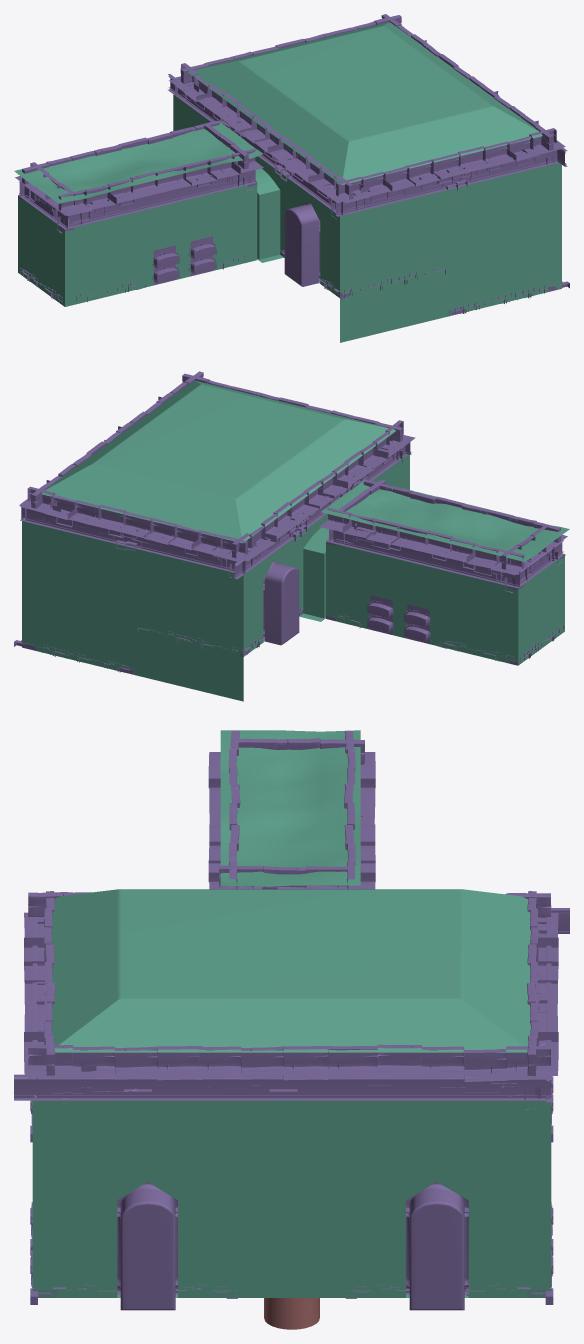
Rendered from cmc_dungeon_floorB2.fbx.
3 renders of one model, top to bottom at view 1: azimuth 30°, elevation 25°; view 2: azimuth 150°, elevation 25°; view 3: azimuth 270°, elevation 25°, orthographic. The views are drawn at different scales.
Parts seen in each view (by area): view 1: R_wall (×2), ceiling (×2), B_wall (×2), bricks_row_02 (×2), bricks_row_01 (×2), bricks_row_04 (×2), entryway_arch_01, bricks_row_03 (×2), grave_04, grave_05, small_row_01, molding_24_low (+11 smaller); view 2: L_wall (×2), ceiling (×2), B_wall (×2), bricks_row_02 (×2), bricks_row_03 (×2), bricks_row_01, entryway_arch_02, bricks_row_04 (×2), grave_02, grave_01, molding_10_low, molding_13_low (+10 smaller); view 3: ceiling (×2), F_wall, bricks_row_03 (×2), entryway_arch_03, entryway_arch_04, bricks_row_02 (×2), bricks_row_04 (×2), bricks_row_01 (×2), small_row_01, elevator_base, molding_20_low, molding_22_low (+6 smaller).
Boxes of the visible parts, x1=… form: R_wall (×2): x1=65, y1=163, x2=561, y2=342; ceiling (×2): x1=14, y1=22, x2=542, y2=203; B_wall (×2): x1=18, y1=94, x2=339, y2=306; bricks_row_02 (×2): x1=58, y1=15, x2=401, y2=216; bricks_row_01 (×2): x1=169, y1=63, x2=353, y2=202; bricks_row_04 (×2): x1=19, y1=128, x2=562, y2=208; entryway_arch_01: x1=284, y1=202, x2=320, y2=286; bricks_row_03 (×2): x1=15, y1=14, x2=565, y2=184; grave_04: x1=153, y1=245, x2=179, y2=285; grave_05: x1=190, y1=236, x2=216, y2=276; small_row_01: x1=194, y1=92, x2=534, y2=201; molding_24_low: x1=485, y1=154, x2=524, y2=180; L_wall (×2): x1=22, y1=521, x2=518, y2=701; ceiling (×2): x1=42, y1=380, x2=569, y2=561; B_wall (×2): x1=243, y1=454, x2=564, y2=665; bricks_row_02 (×2): x1=21, y1=479, x2=567, y2=561; bricks_row_03 (×2): x1=19, y1=371, x2=524, y2=575; bricks_row_01: x1=231, y1=420, x2=415, y2=561; entryway_arch_02: x1=263, y1=560, x2=299, y2=645; bricks_row_04 (×2): x1=182, y1=373, x2=558, y2=572; grave_02: x1=367, y1=595, x2=392, y2=634; grave_01: x1=404, y1=604, x2=429, y2=643; molding_10_low: x1=169, y1=540, x2=207, y2=565; molding_13_low: x1=57, y1=513, x2=95, y2=538; ceiling (×2): x1=51, y1=730, x2=530, y2=1052; F_wall: x1=32, y1=1100, x2=551, y2=1297; bricks_row_03 (×2): x1=28, y1=730, x2=551, y2=1081; entryway_arch_03: x1=406, y1=1182, x2=468, y2=1310; entryway_arch_04: x1=117, y1=1182, x2=177, y2=1310; bricks_row_02 (×2): x1=208, y1=730, x2=558, y2=1075; bricks_row_04 (×2): x1=24, y1=738, x2=364, y2=1075; bricks_row_01 (×2): x1=28, y1=865, x2=551, y2=917; small_row_01: x1=36, y1=931, x2=546, y2=1092; elevator_base: x1=264, y1=1298, x2=319, y2=1329; molding_20_low: x1=148, y1=1074, x2=215, y2=1100; molding_22_low: x1=14, y1=1074, x2=81, y2=1100.
Bounding box in the file's own units: 311 × 134 × 209.
